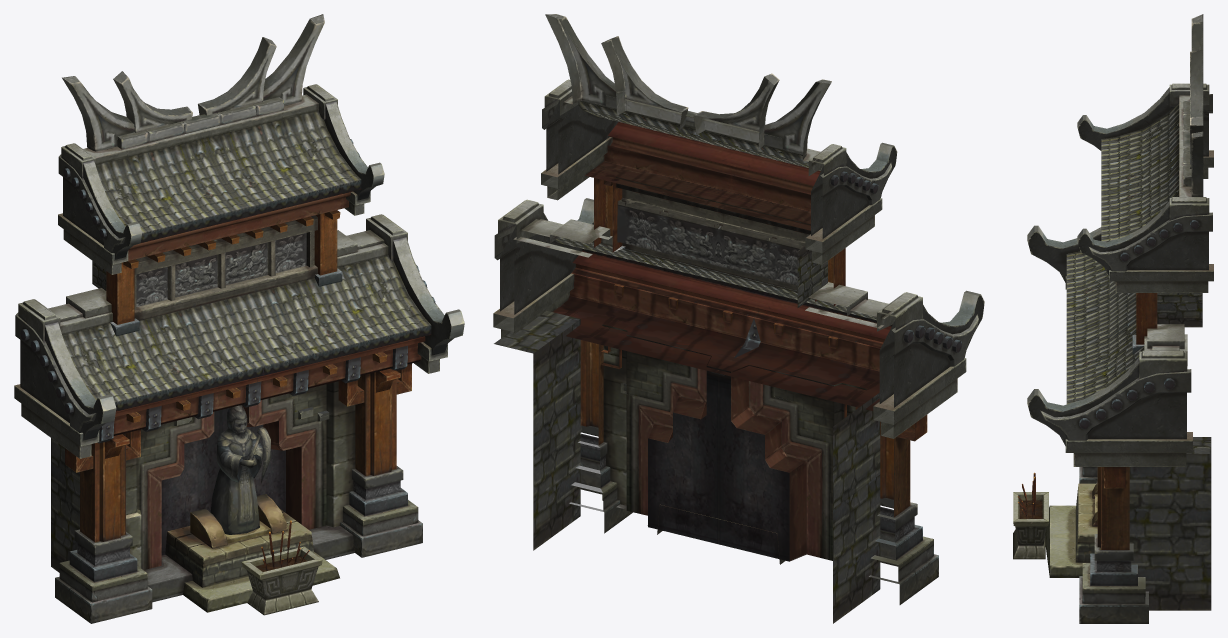
Rendered from Map01_Building_01.FBX.
The picture shows the model from 3 angles, left to right: view 1: azimuth 30°, elevation 25°; view 2: azimuth 150°, elevation 25°; view 3: azimuth 270°, elevation 25°; orthographic projection. The views are drawn at different scales.
Visible parts, largest first — view 1: Map01_Building_01; view 2: Map01_Building_01; view 3: Map01_Building_01.
Part boxes in pixels (box(x1,y1,x2,y2)): Map01_Building_01: box(14, 14, 464, 623); Map01_Building_01: box(493, 14, 984, 623); Map01_Building_01: box(1013, 14, 1213, 623).
Size of the model in its own units: 644 by 807 by 312.
